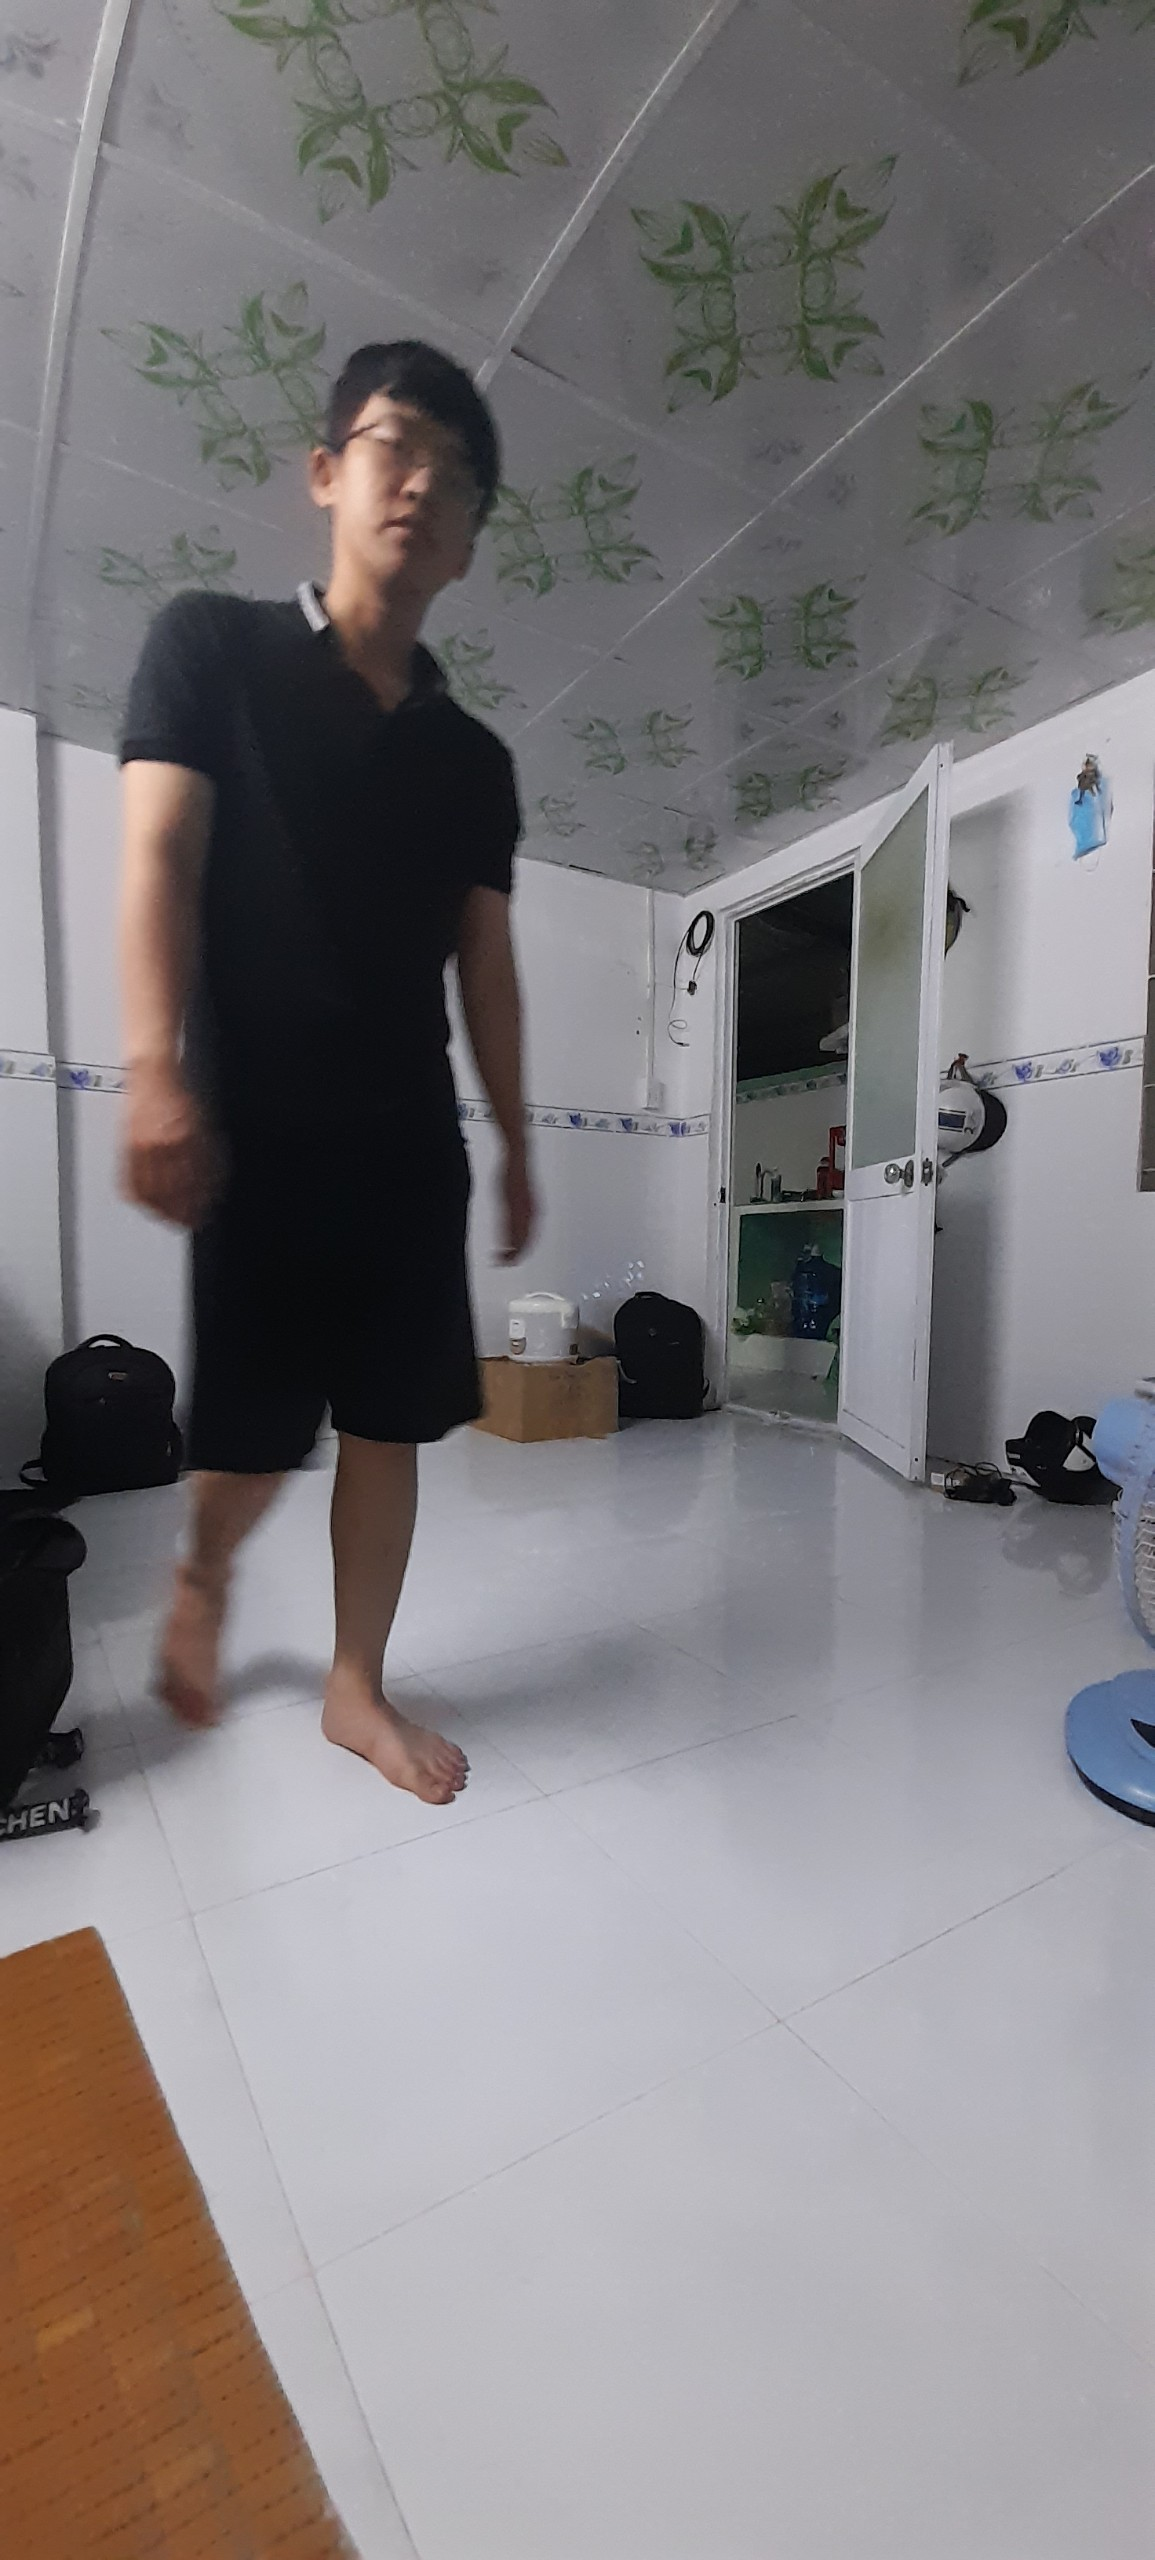person: (130, 339, 511, 1798)
